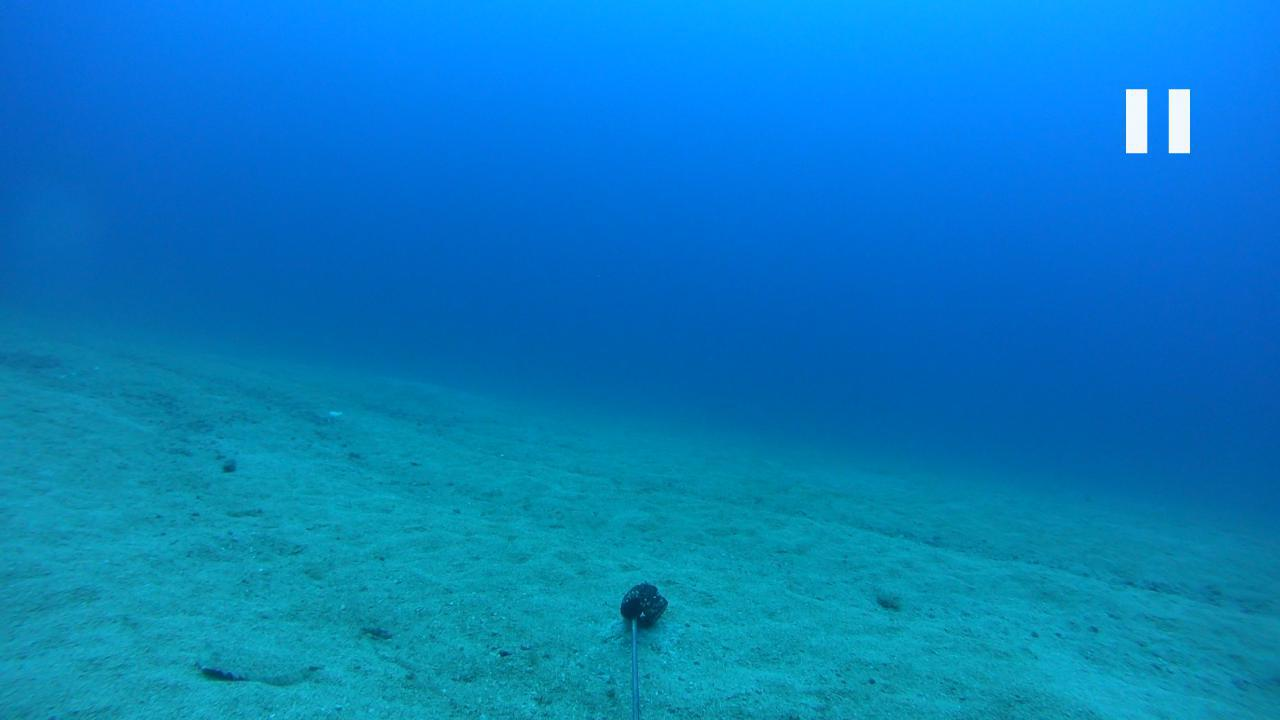bothus: (193, 642, 327, 693)
